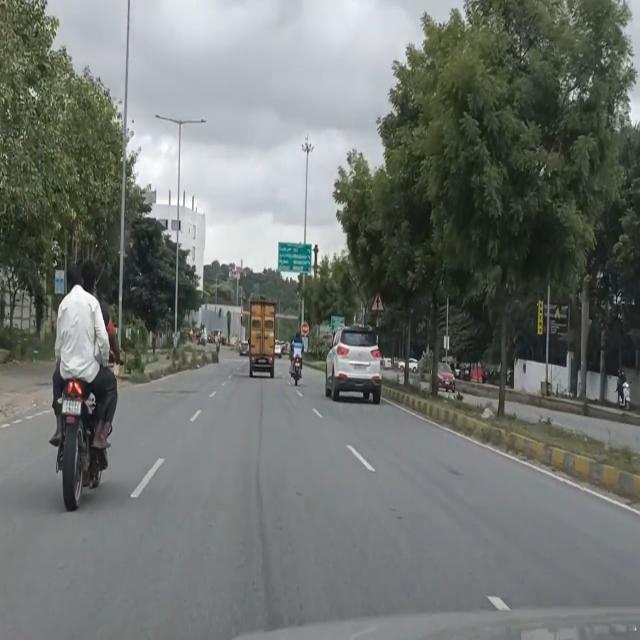bien_cam: (370, 288, 386, 313)
